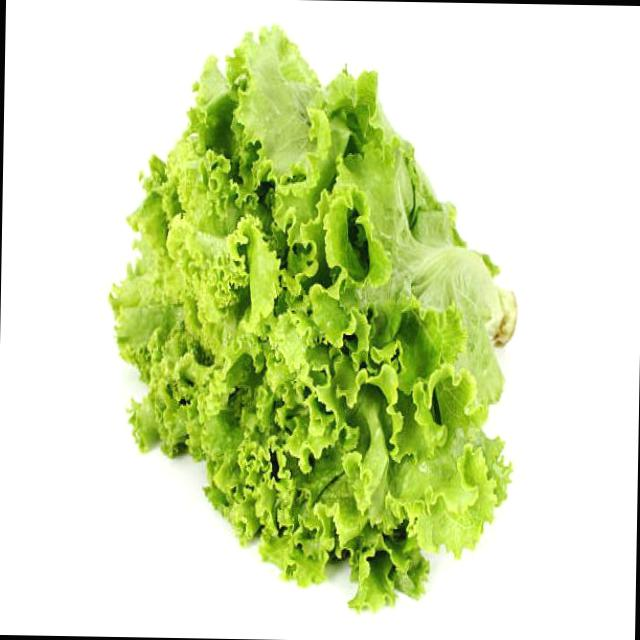Lettuce-Ready-to-Harvest: (110, 28, 515, 608)
